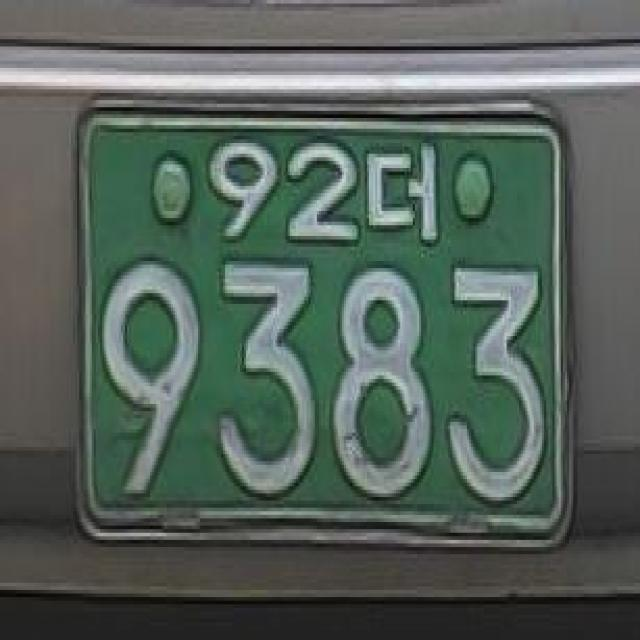illegal_plate: (62, 81, 596, 577)
